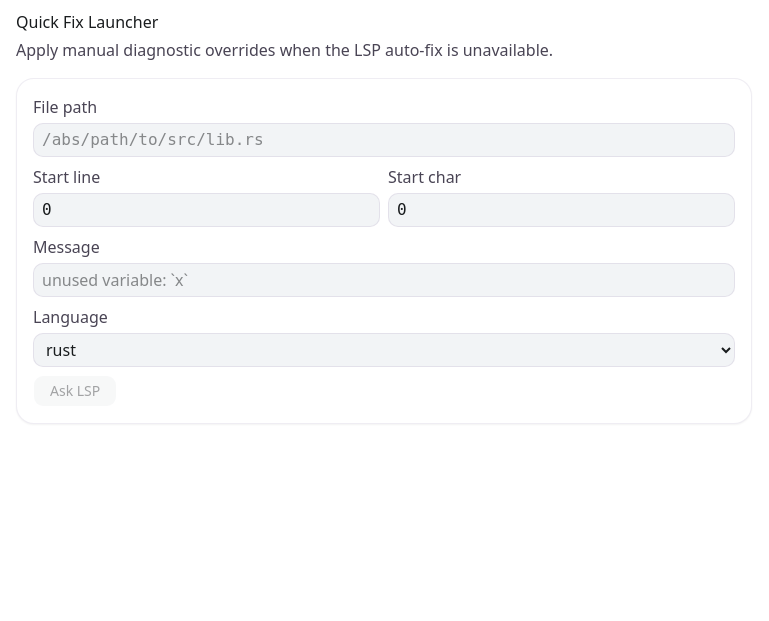
Test case: QuickFix — panel error rendering is surfaced › shows the panel-side error chip when lspCodeActions rejects
In the field labelled "File path": [384, 140] box [33,123,735,157], type "/tmp/x.rs"
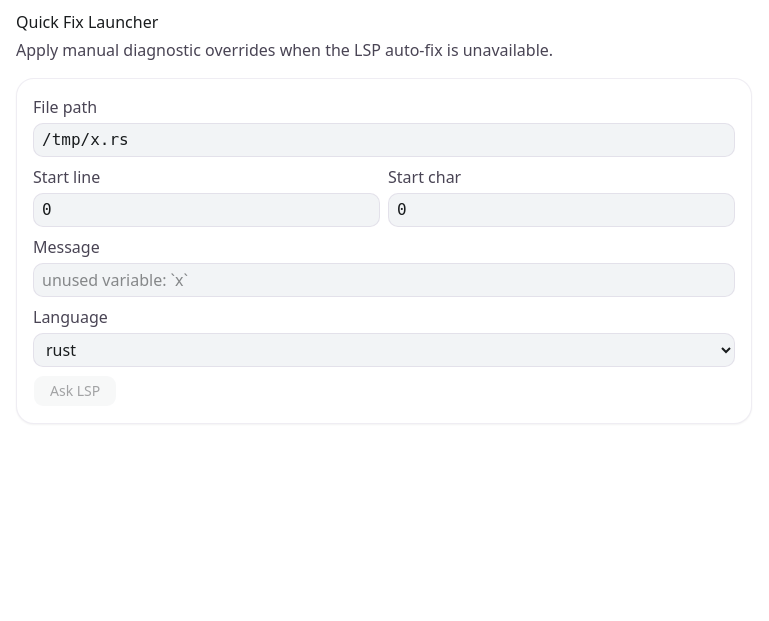
In the field labelled "Message": [384, 280] box [33,263,735,297], type "unused"
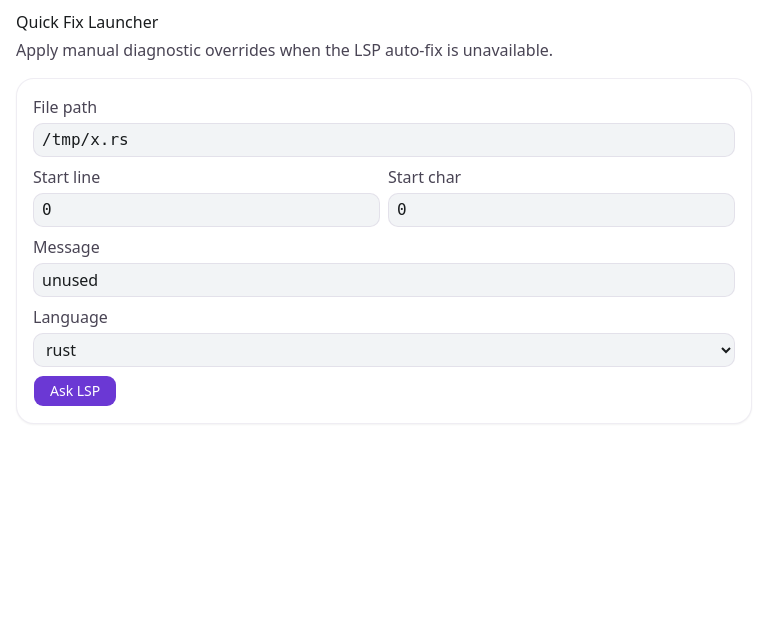
Click the button "Ask LSP": [75, 391] box [33,375,117,407]
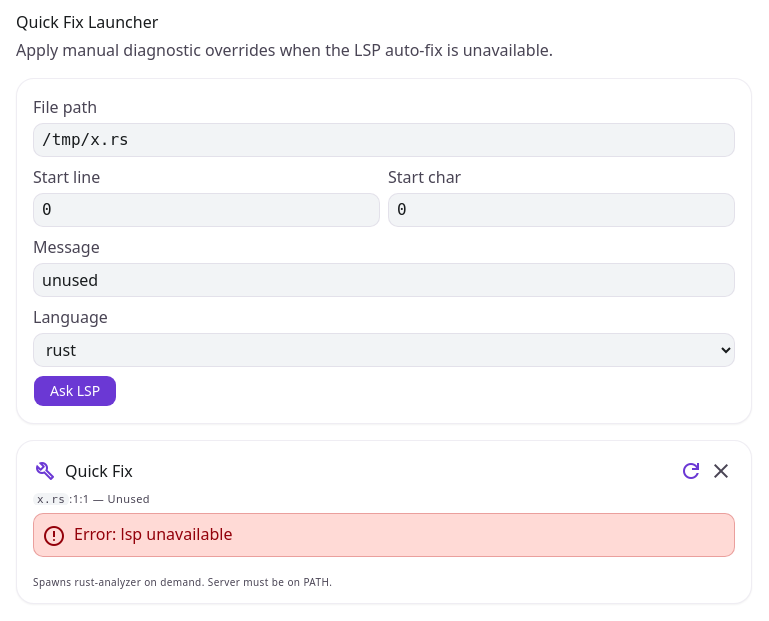
Now the message shows "lsp unavailable", box [74,523,232,545]
